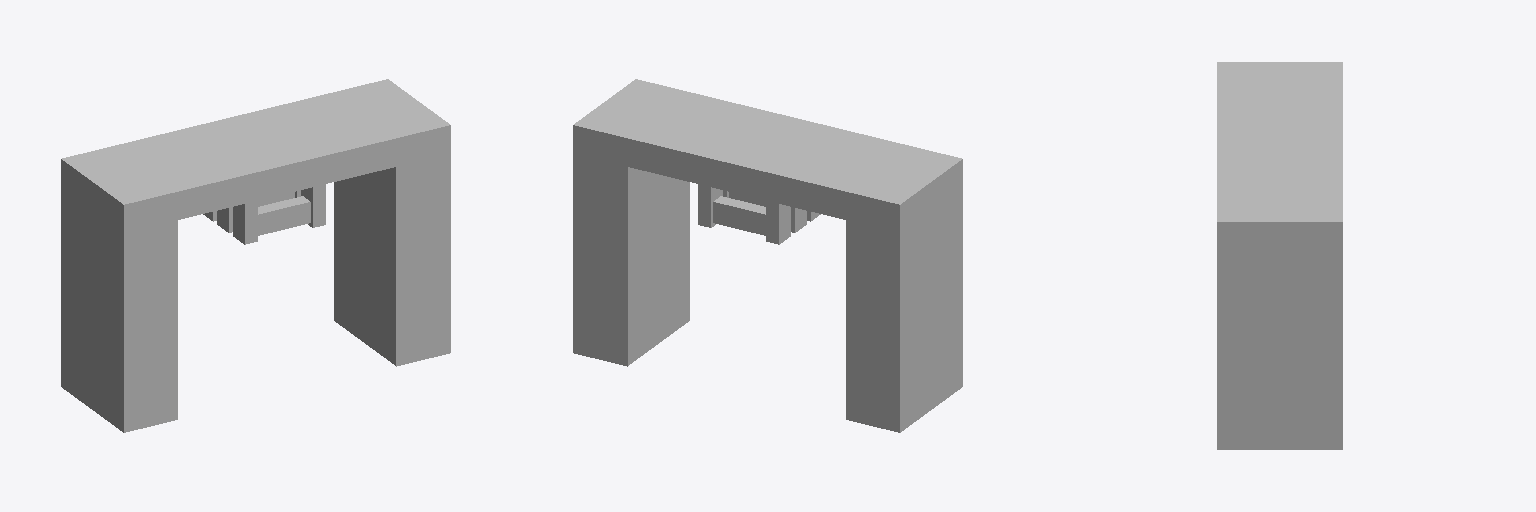
The model's file is commutator4.obj.
3 renders of one model, left to right at view 1: azimuth 30°, elevation 25°; view 2: azimuth 150°, elevation 25°; view 3: azimuth 270°, elevation 25°, orthographic.
Parts seen in each view (by area): view 1: Commutator4_Cube.015; view 2: Commutator4_Cube.015; view 3: Commutator4_Cube.015.
Part boxes in pixels (x1,y1,x2,y2): Commutator4_Cube.015: (61, 79, 450, 432); Commutator4_Cube.015: (573, 79, 962, 432); Commutator4_Cube.015: (1217, 62, 1342, 449).
Bounding box in the file's own units: 3 × 2 × 1.